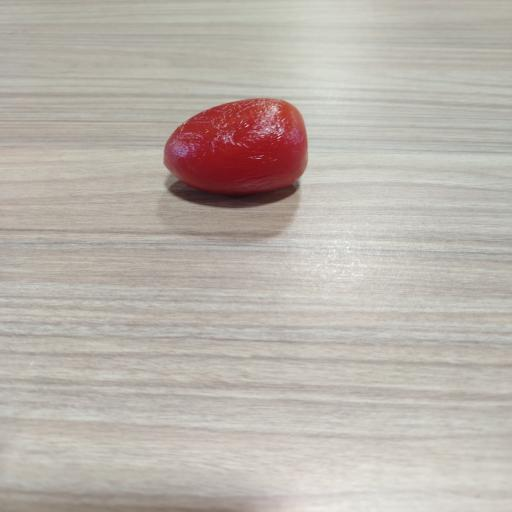spoiled: (164, 99, 308, 195)
